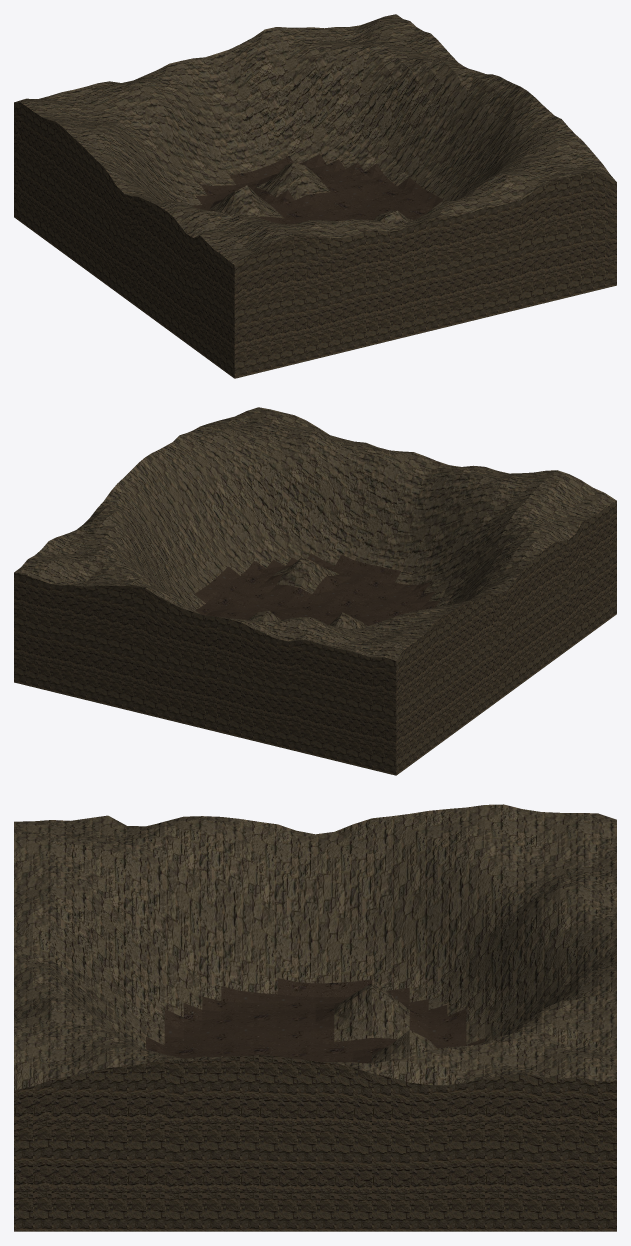
The model's file is cave_floor_01.glb.
3 views of the same model, one above another, from view 1: azimuth 30°, elevation 25°; view 2: azimuth 150°, elevation 25°; view 3: azimuth 270°, elevation 25° (orthographic). The views are drawn at different scales.
Visible parts, largest first — view 1: cave_floor_01; view 2: cave_floor_01; view 3: cave_floor_01.
Boxes of the visible parts, x1,y1,x2,y2 form: cave_floor_01: [14, 14, 616, 378]; cave_floor_01: [14, 407, 616, 775]; cave_floor_01: [14, 804, 616, 1231].
Bounding box in the file's own units: 16 × 5.18 × 16.
Materials: 3 (3 with a texture image).
